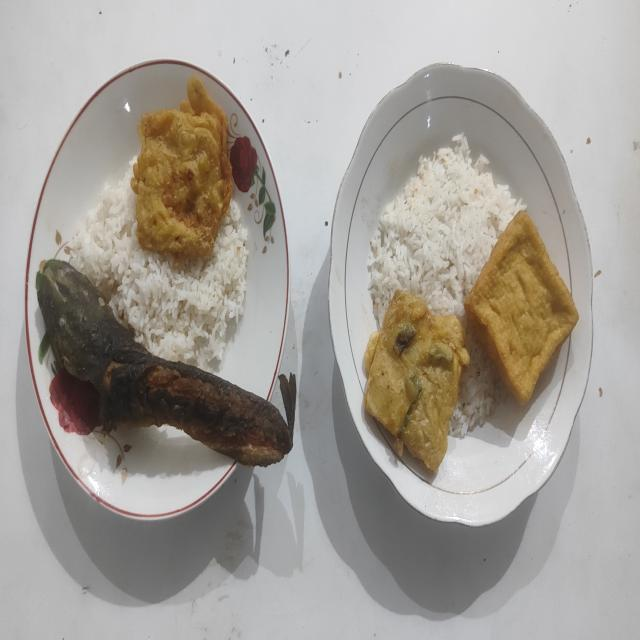nasi_putih: (70, 170, 250, 372), (367, 136, 525, 324), (449, 326, 505, 438)
tahu_goreng: (464, 210, 578, 403)
